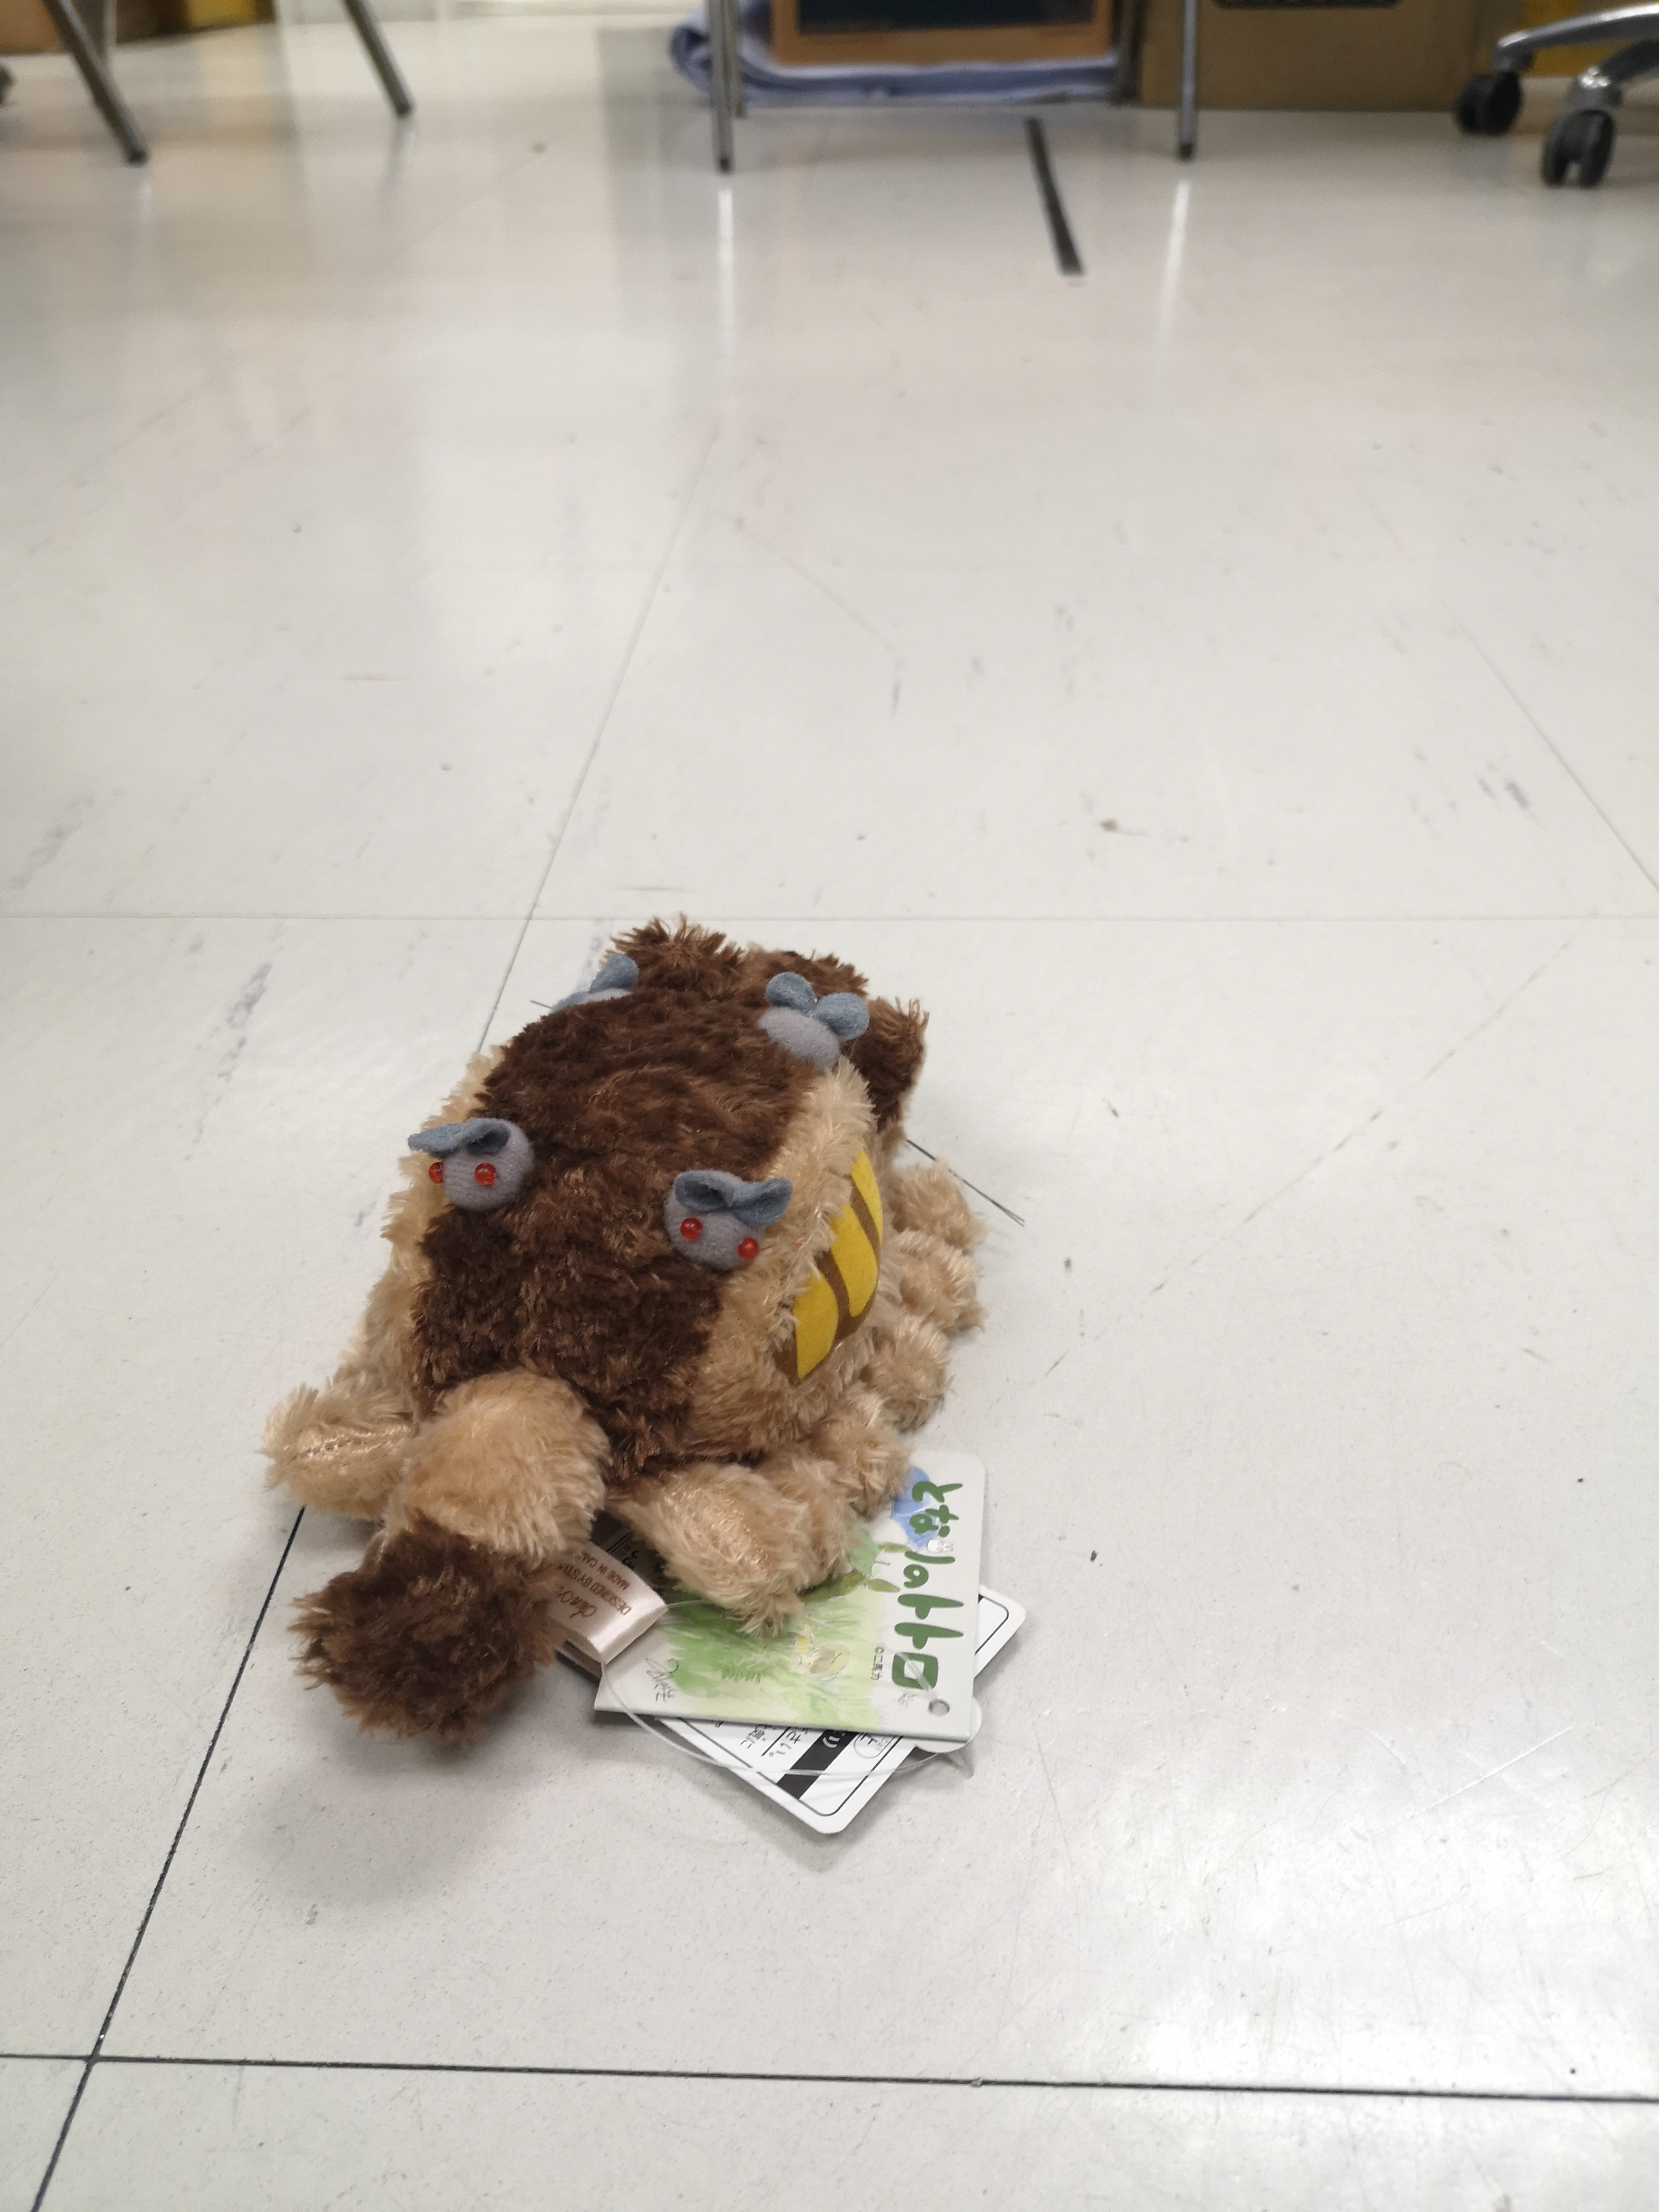nekobus: (258, 897, 1030, 1789)
